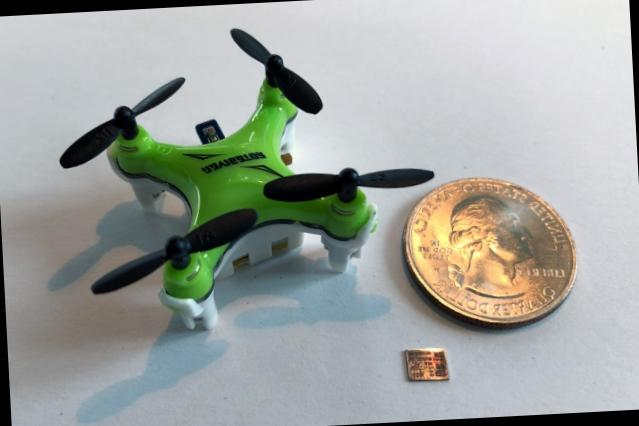drone: (53, 20, 426, 337)
